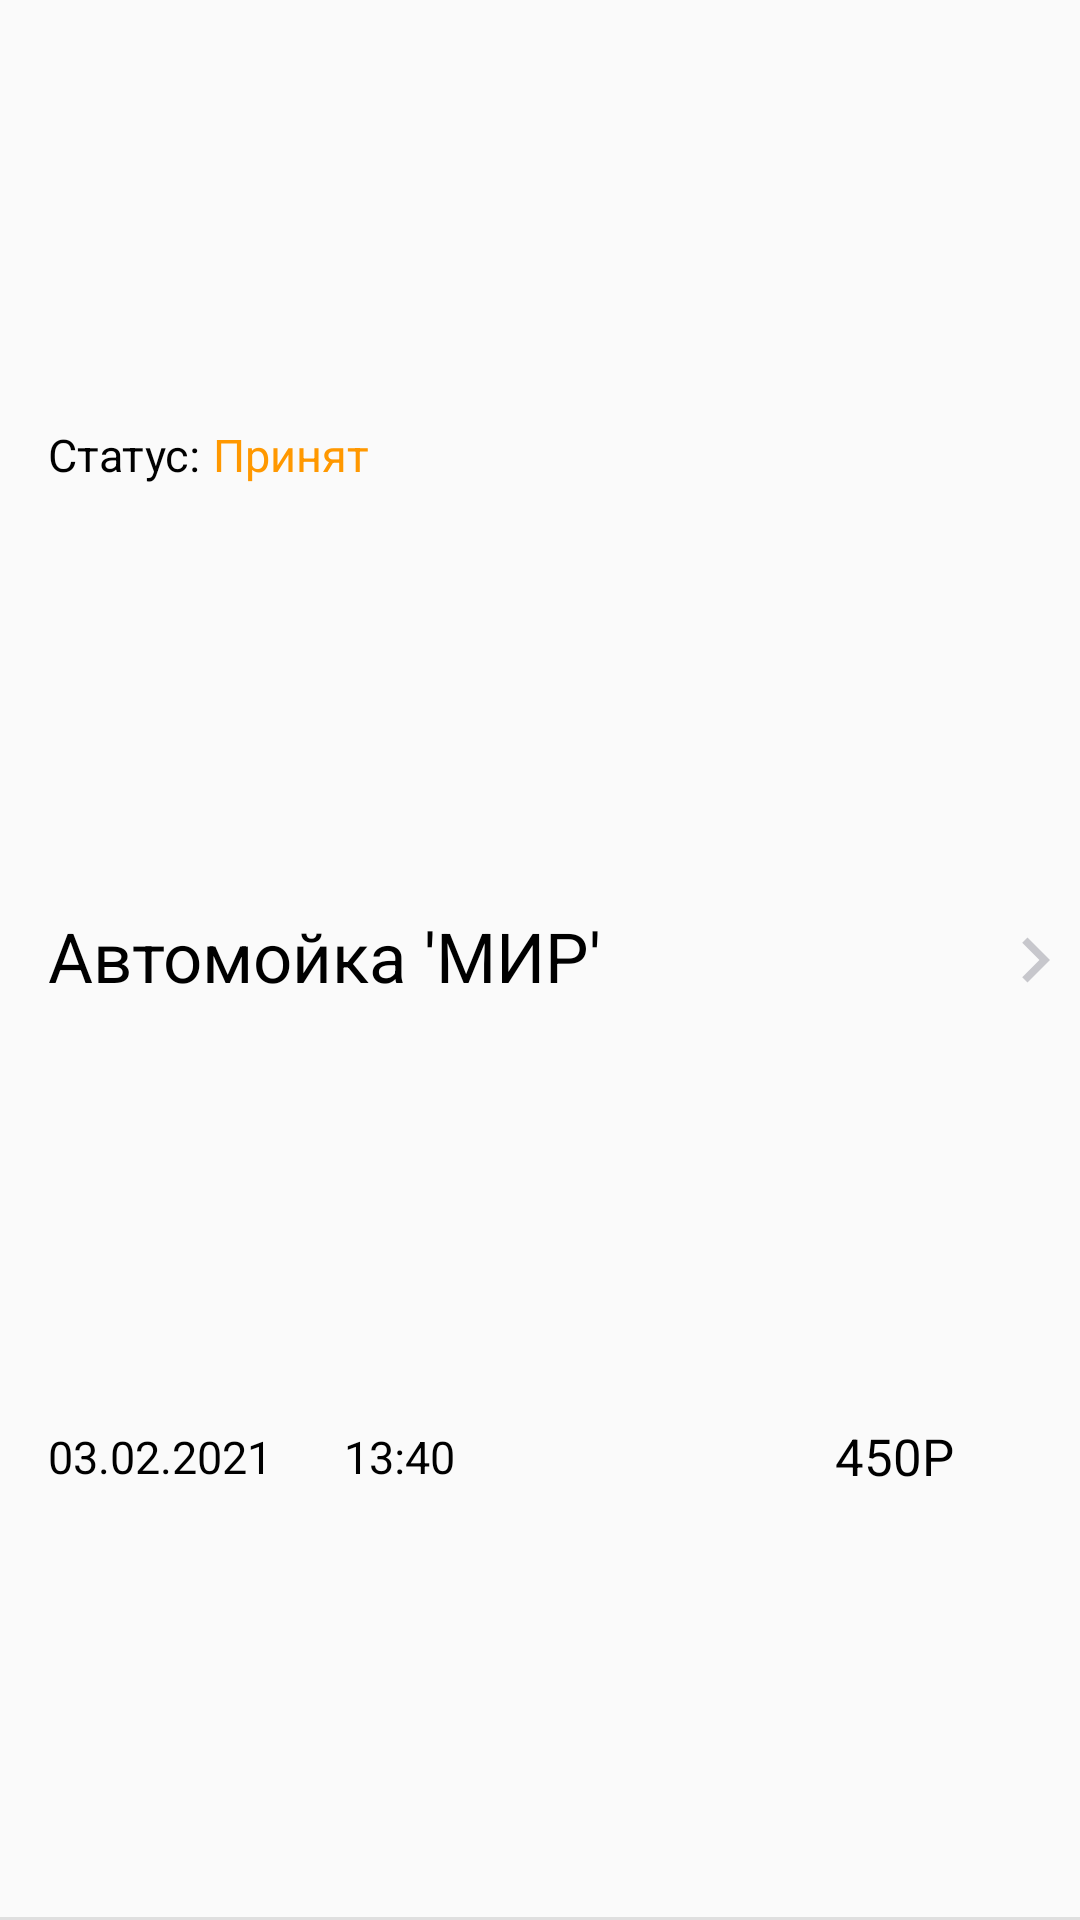

Icon bounding boxes for this 1080px×1920px phone screenshot, format Rect(x1, y1, x2, y2):
next: Rect(1023, 938, 1050, 982)
